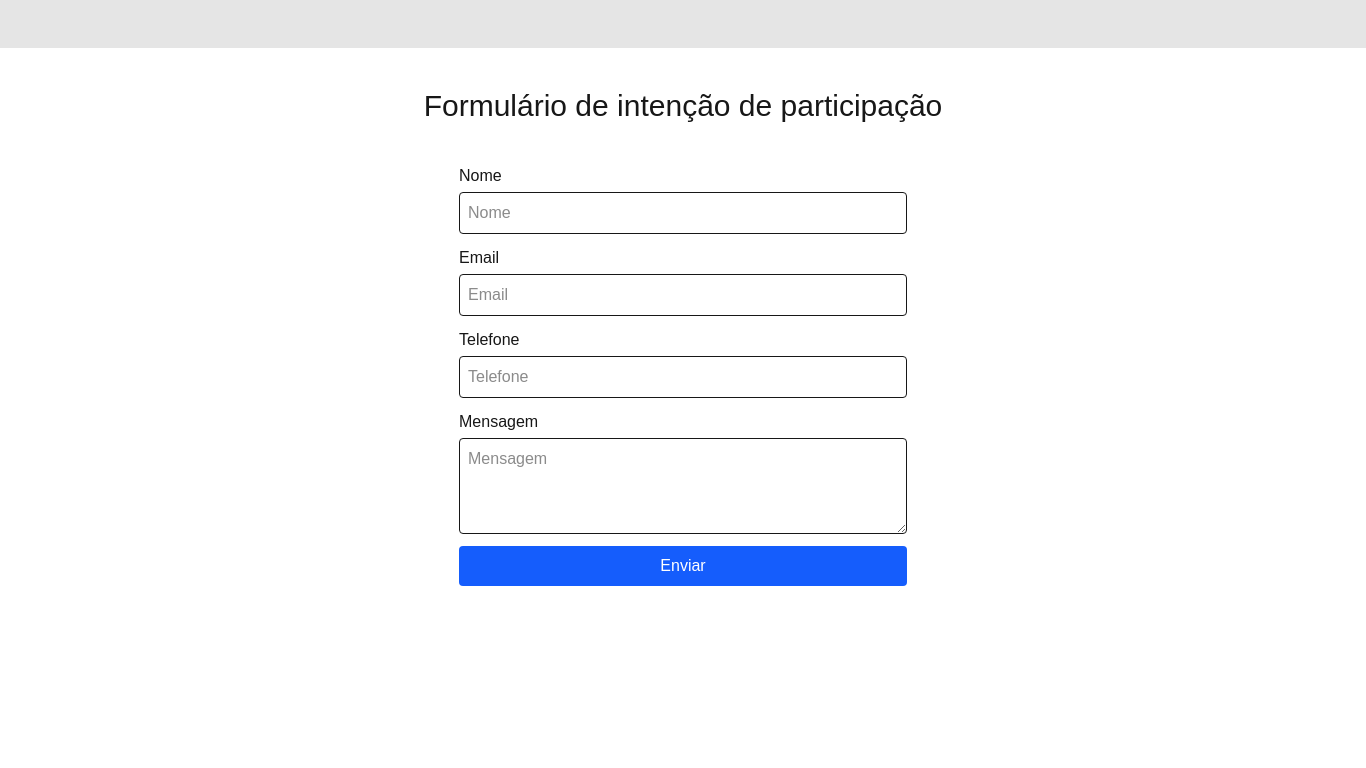
Test case: show toast on error
In the field with placeholder "Nome": (683, 213) [459,192,907,234], type "Jonh Doe"
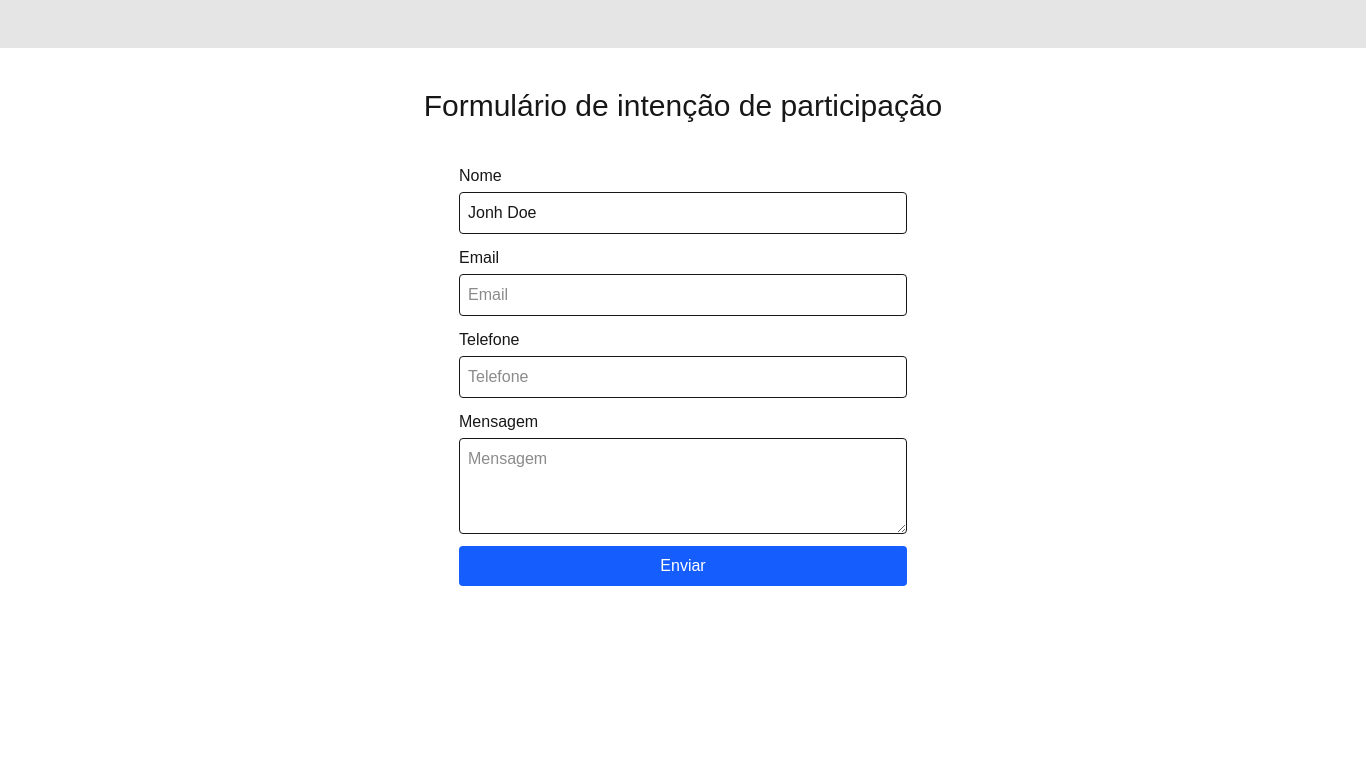
In the field with placeholder "Email": (683, 295) [459,274,907,316], type "jonhdoe@gmail.com"
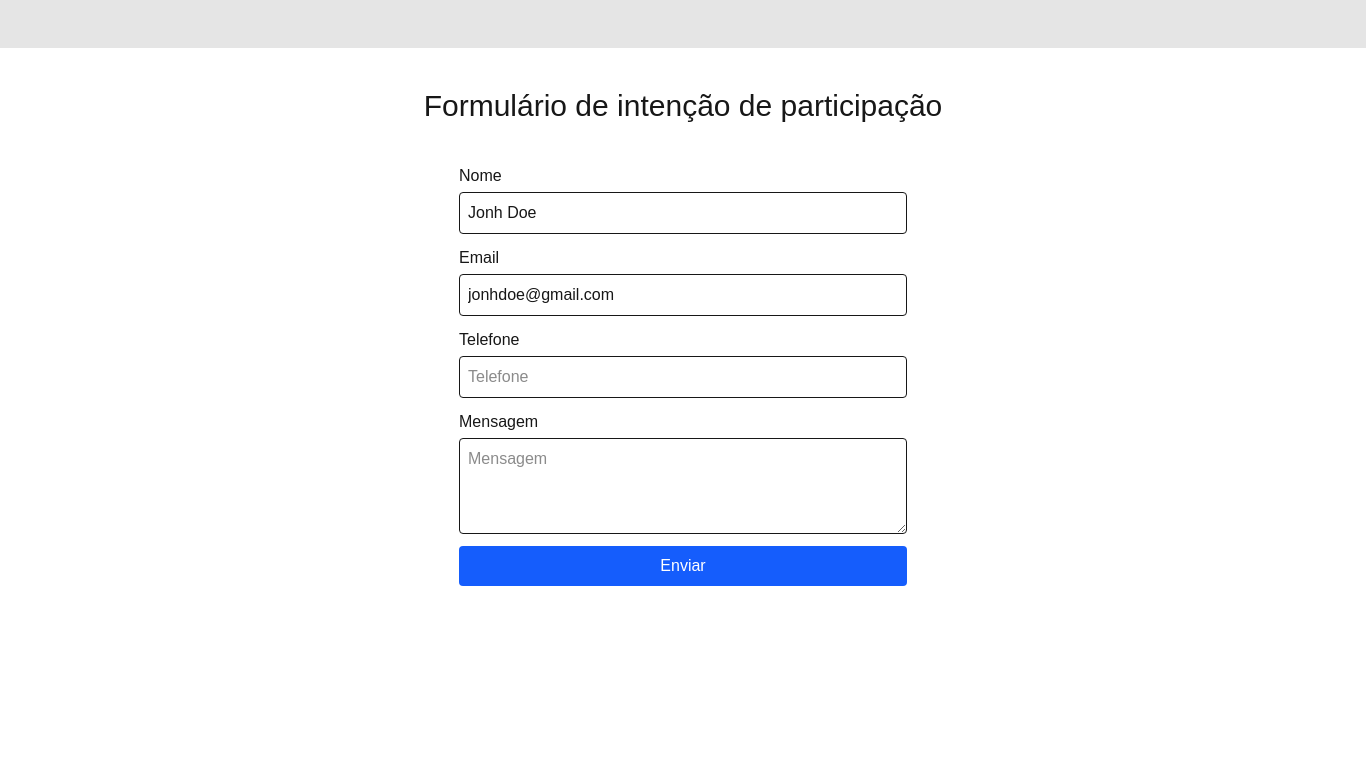
In the field with placeholder "Telefone": (683, 377) [459,356,907,398], type "12345678910"
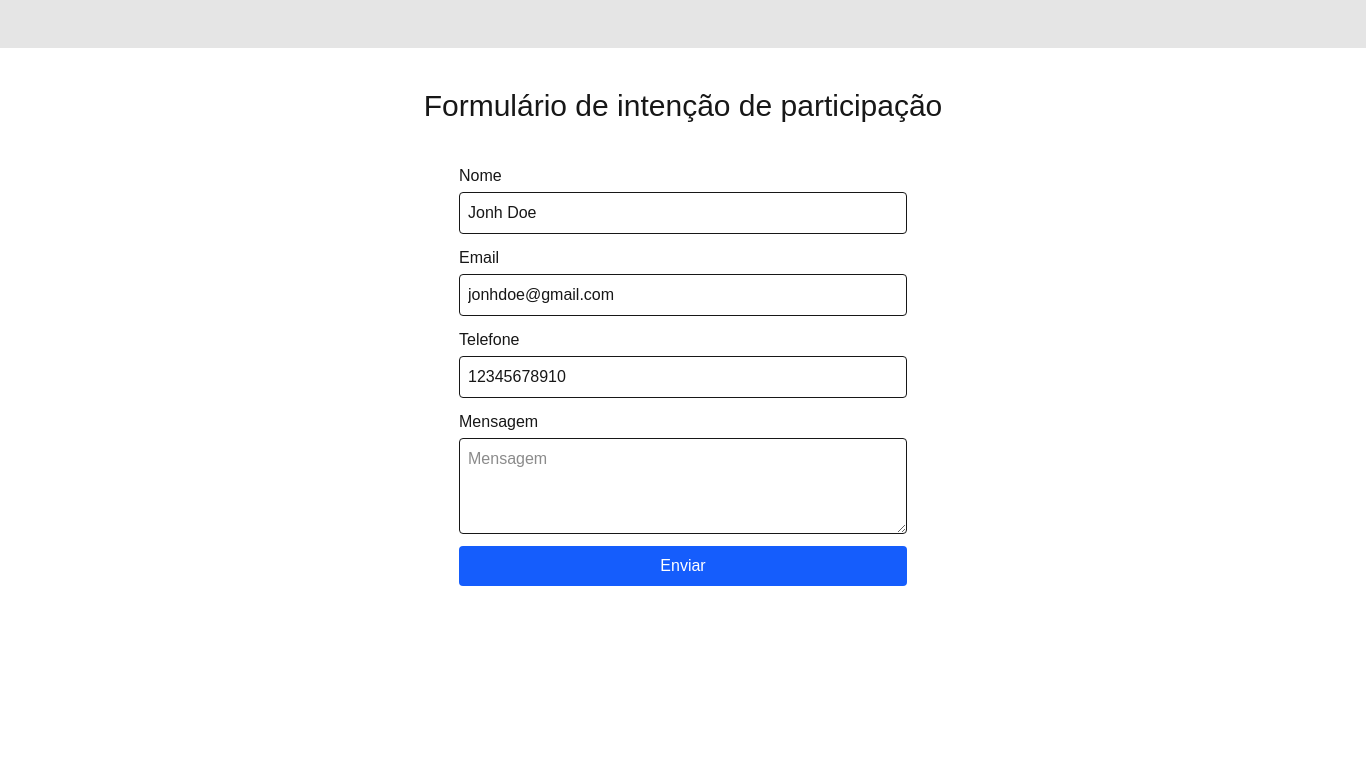
In the text box with placeholder "Mensagem": (683, 486) [459,438,907,534], type "Olá, tudo bem?"
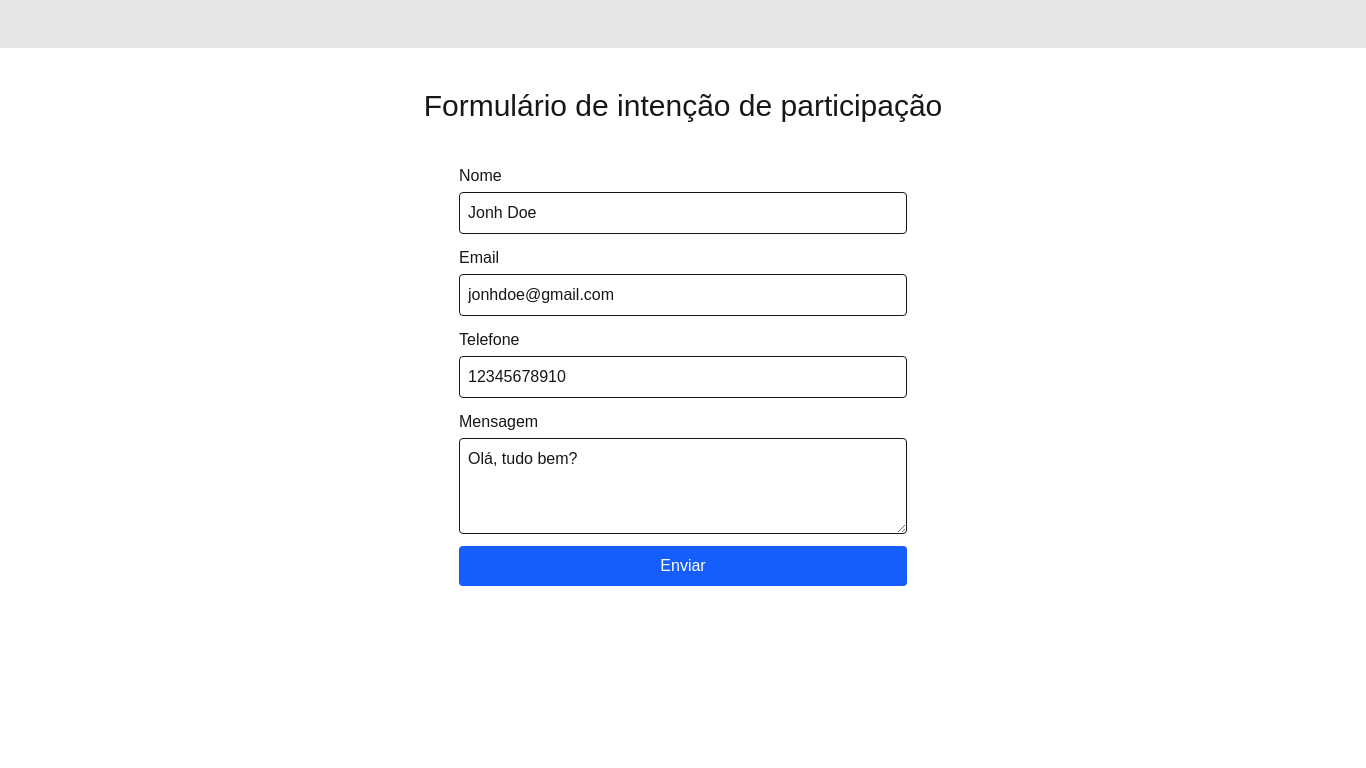
Click the button "Enviar": (683, 566) [459,546,907,586]
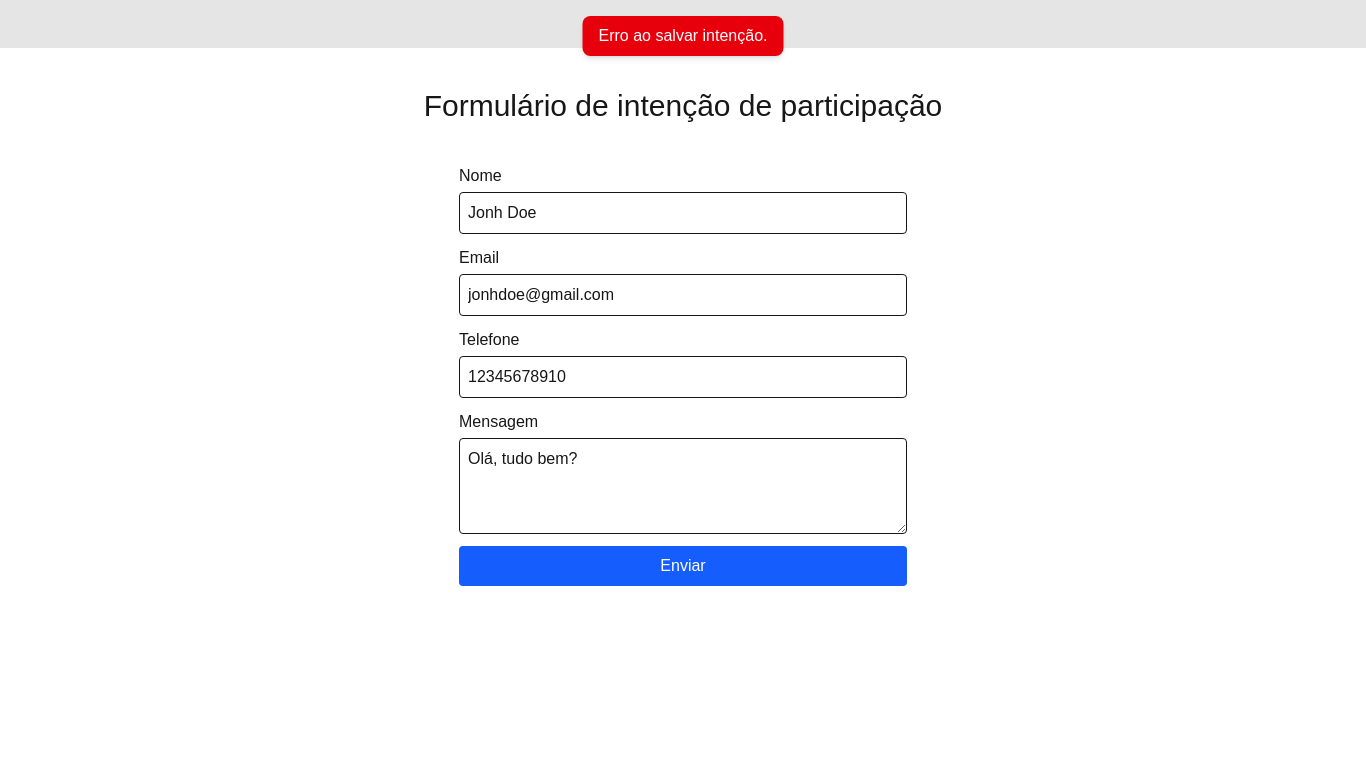
Expected: the text "Erro ao salvar intenção." is shown, [582,16,784,56]
